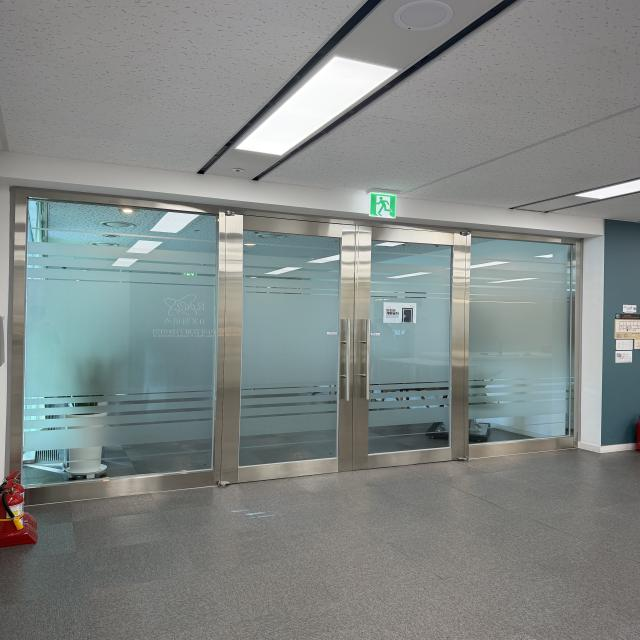front_door: (7, 191, 585, 514)
